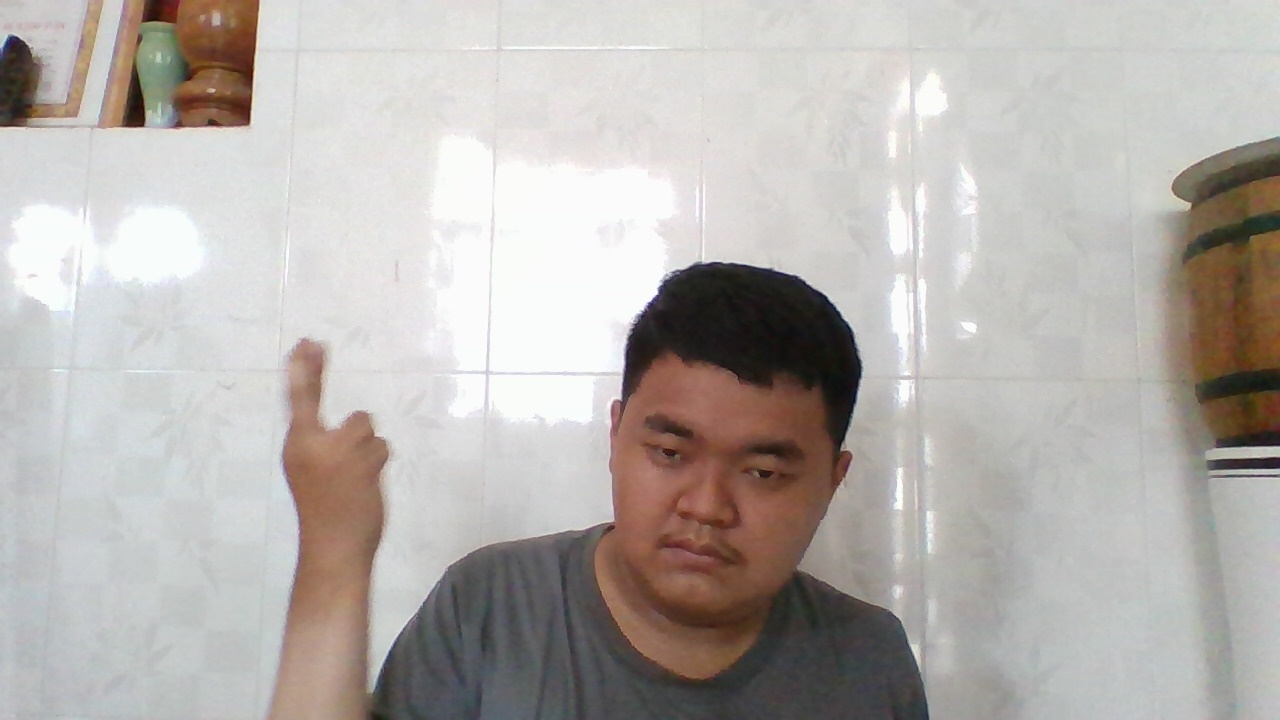R: (277, 331, 401, 564)
